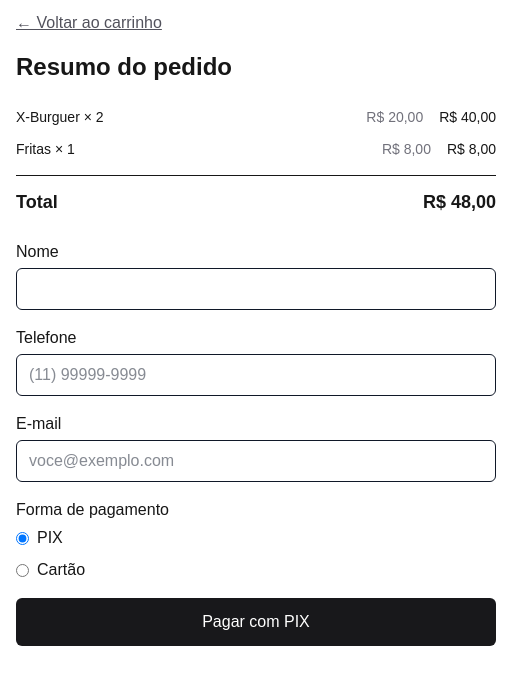
it: CheckoutPage › shows PIX error message when /pay/pix fails
The image size is (513, 699).
Type "Maria Silva" into the field labelled "Nome" at (256, 289), box top-left (16, 268), bottom-right (496, 310)
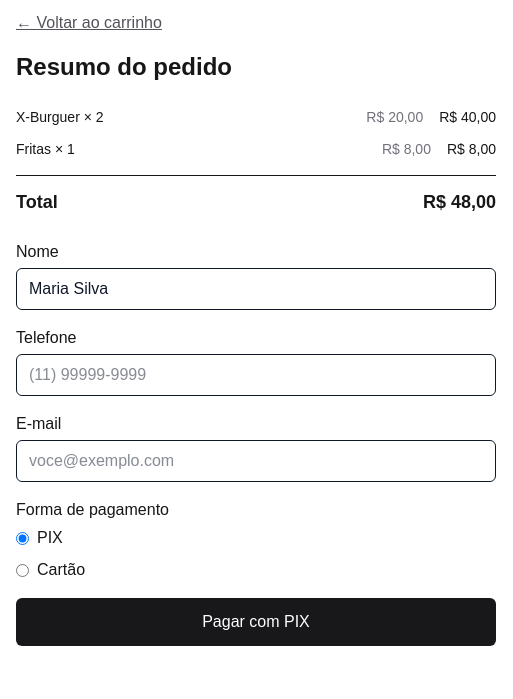
Type "11987654321" into the field labelled "Telefone" at (256, 375), box top-left (16, 354), bottom-right (496, 396)
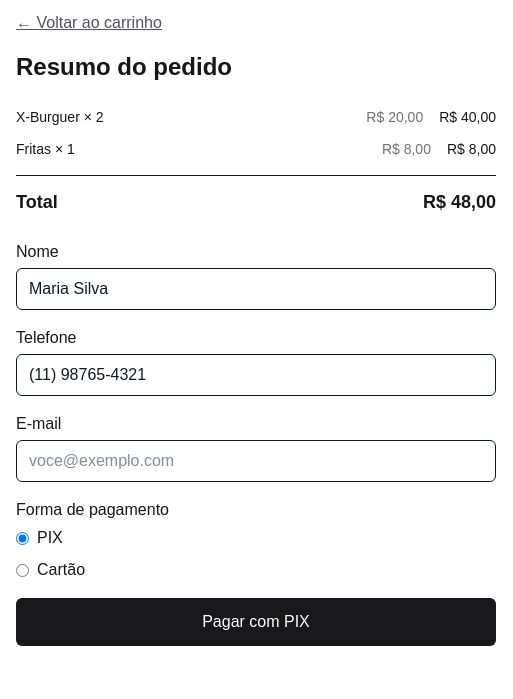
Type "maria@example.com" into the field labelled "E-mail" at (256, 461), box top-left (16, 440), bottom-right (496, 482)
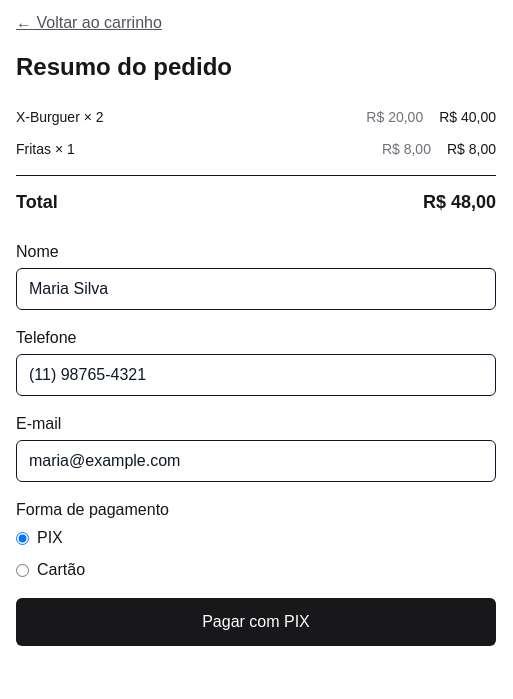
Submit the form "Pagar com PIX", box top-left (16, 240), bottom-right (496, 646)
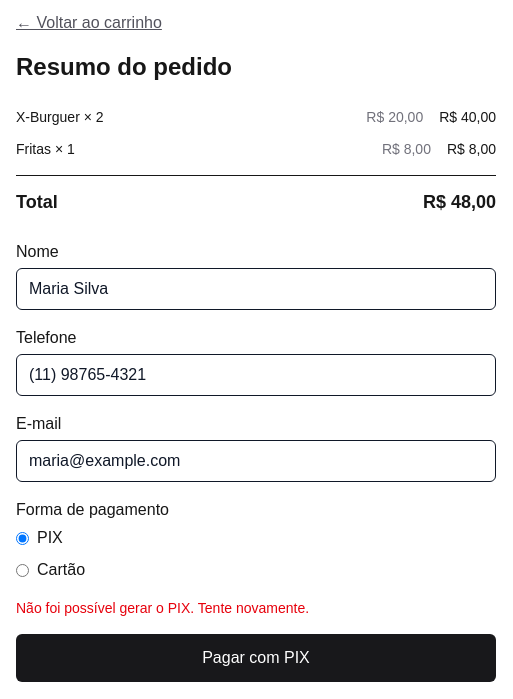
Expected: the text "Não foi possível gerar o PIX. Tente novamente." is shown, top-left (16, 600), bottom-right (309, 616)
